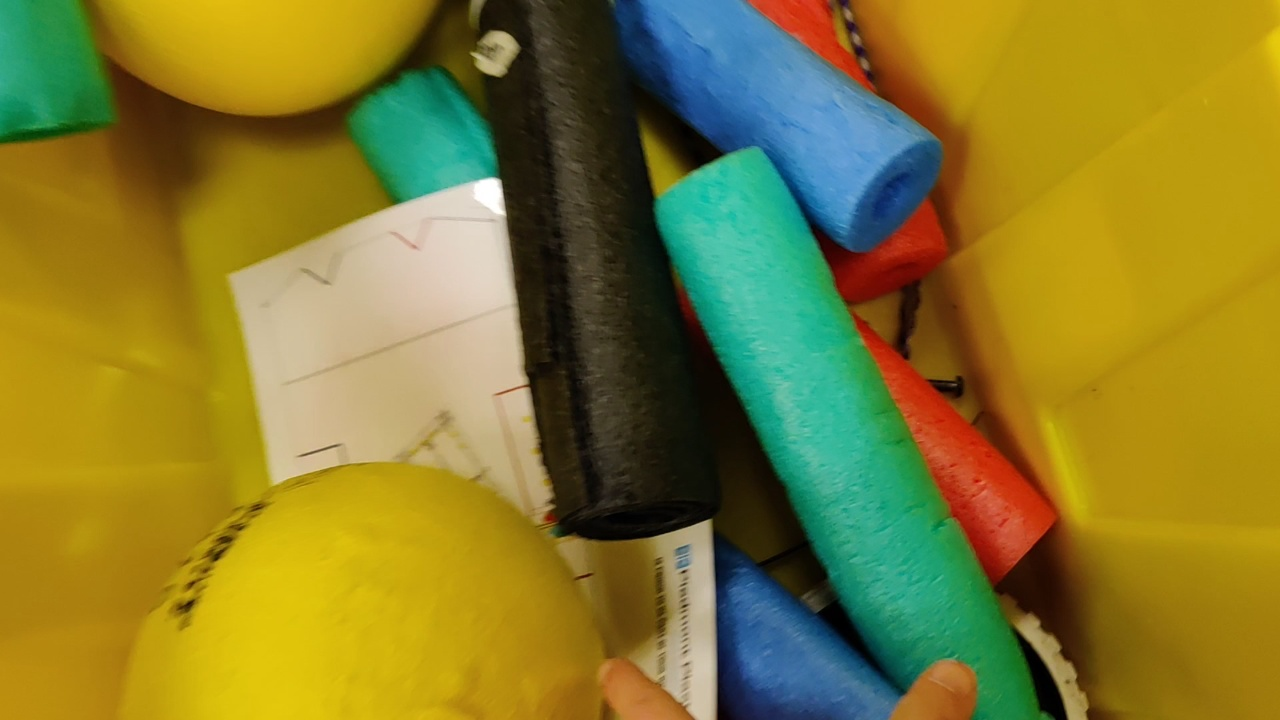Ball: (126, 460, 608, 720)
